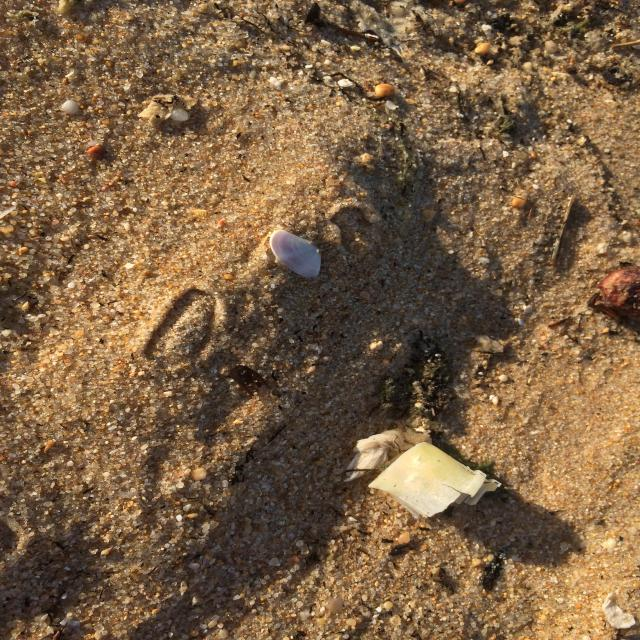litter: (370, 442, 497, 519)
